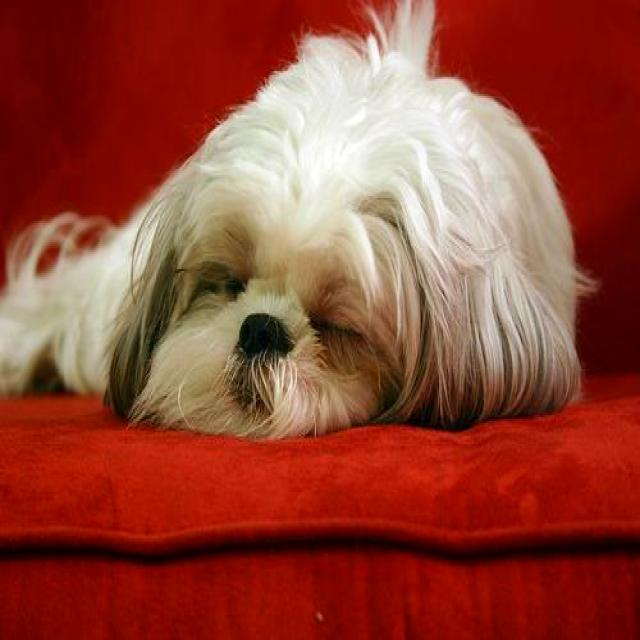shih_tzu: (2, 0, 580, 438)
